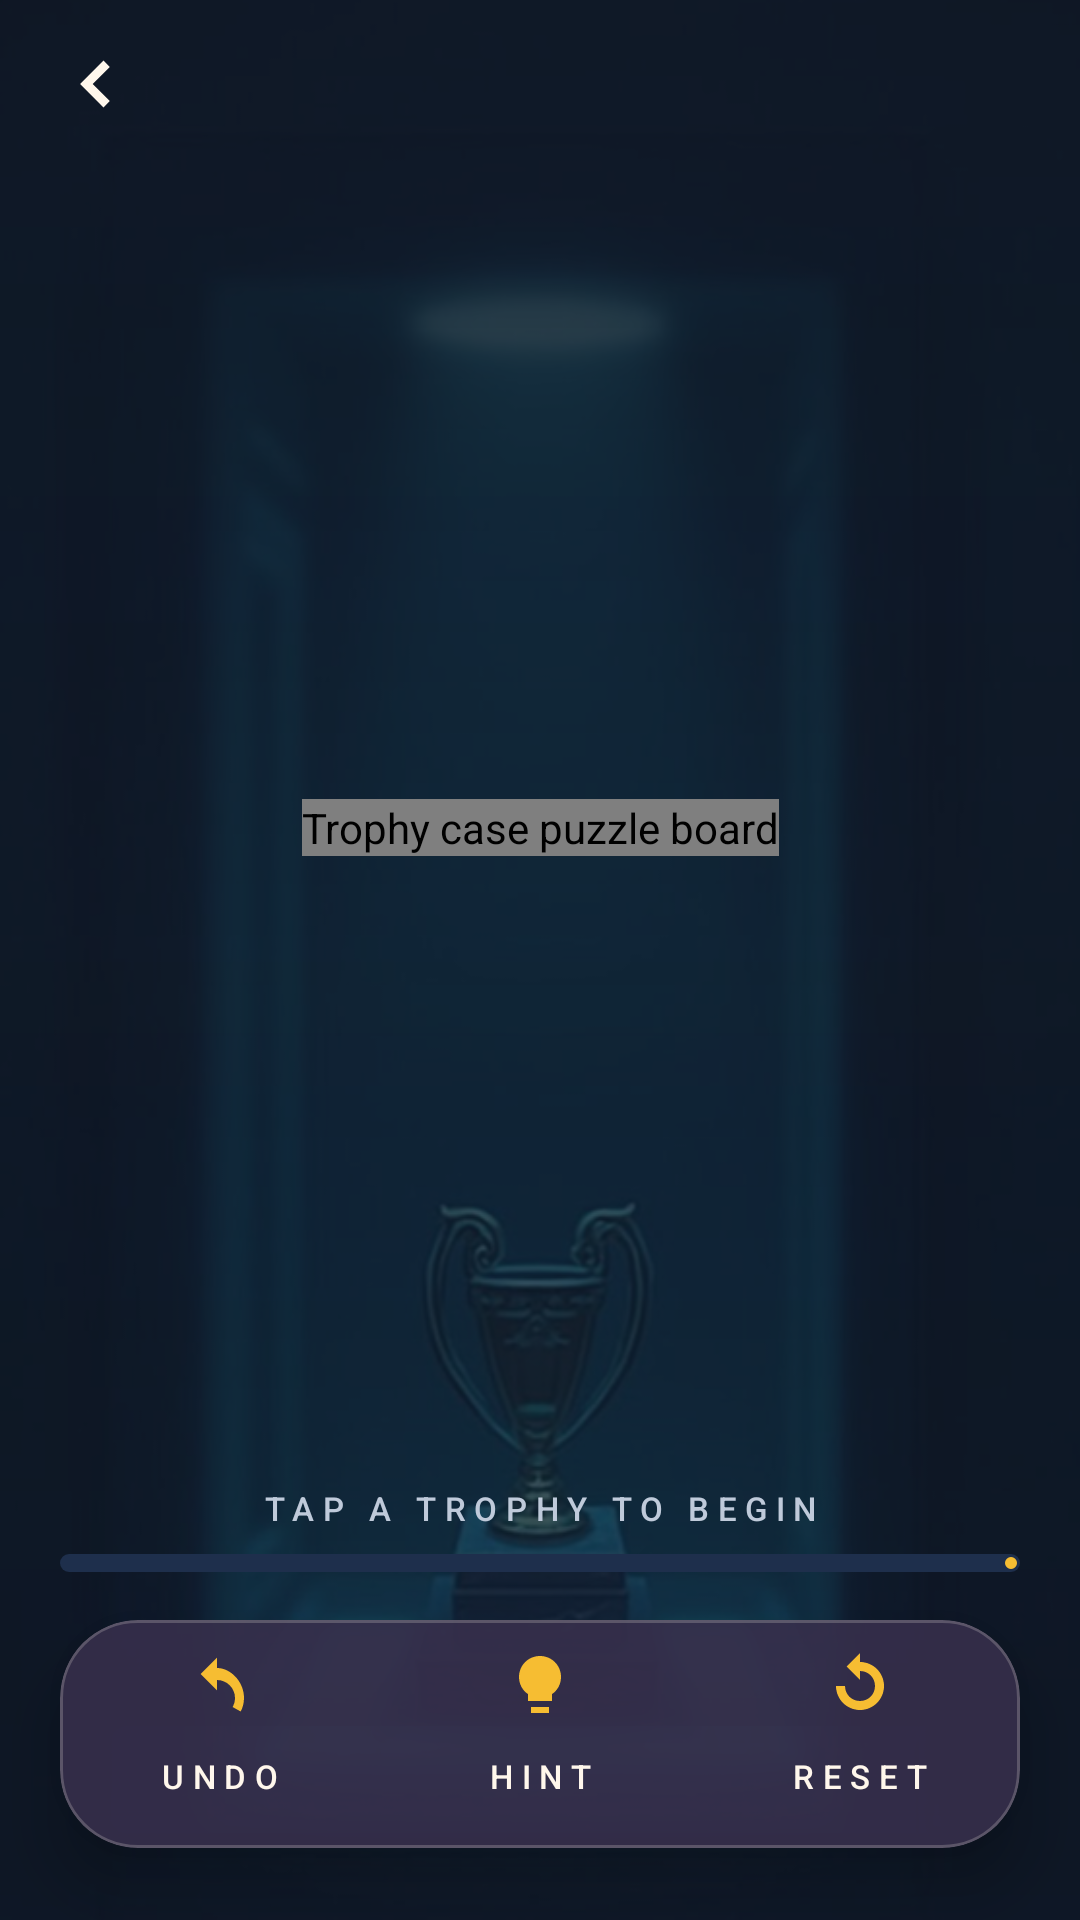

Icon bounding boxes for this 1080*1920 phone screenshot, format (x1=x1, y1=y1, x2=x2, y2=y2):
Back: (x1=80, y1=60, x2=110, y2=108)
